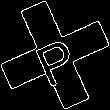P_NW: (28, 24, 82, 86)
